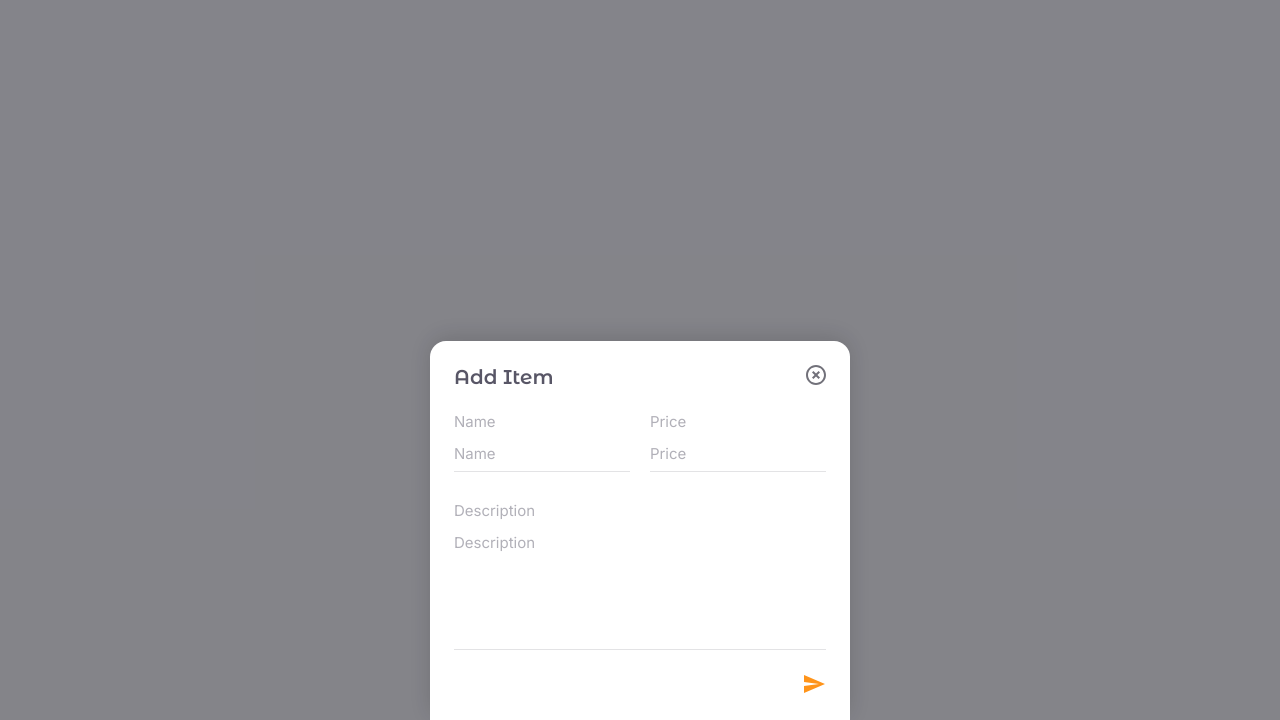
Scenario: AddItemModal › shows mutation error text
Type "Bread" into the field labelled "Name" at (542, 458), box [454,445,630,472]
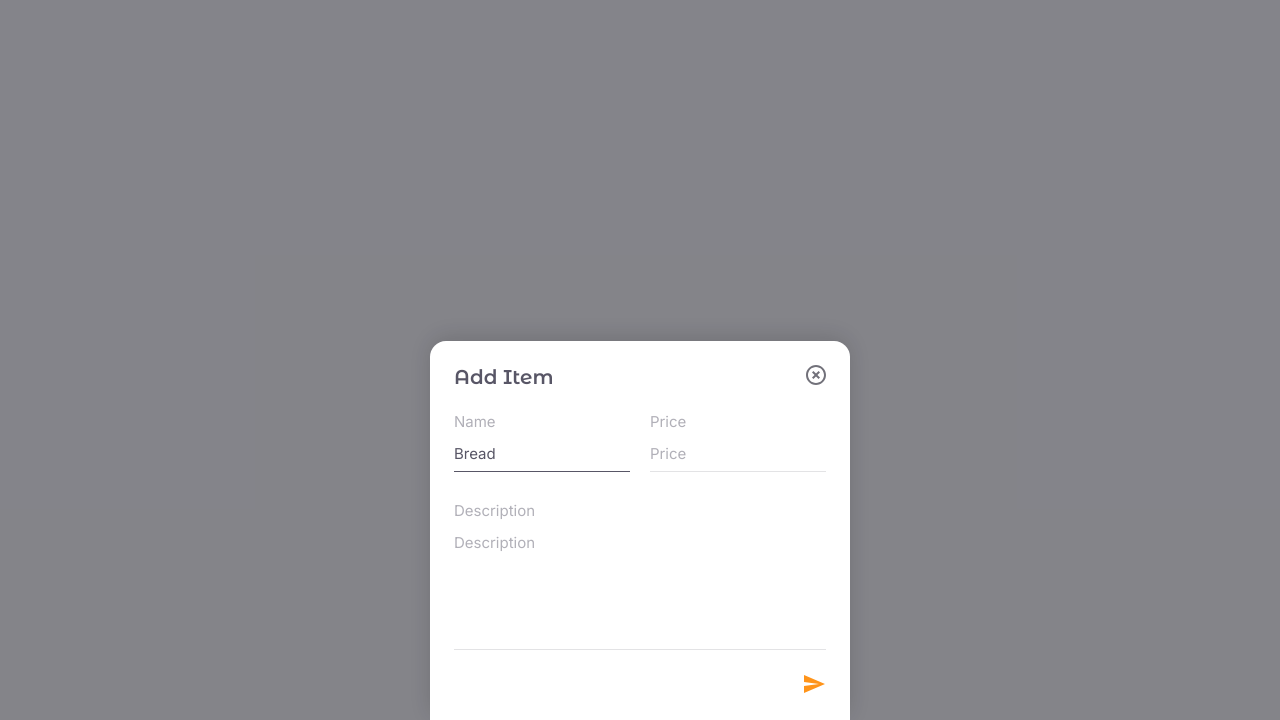
Type "10" into the number field labelled "Price" at (738, 458), box [650,445,826,472]
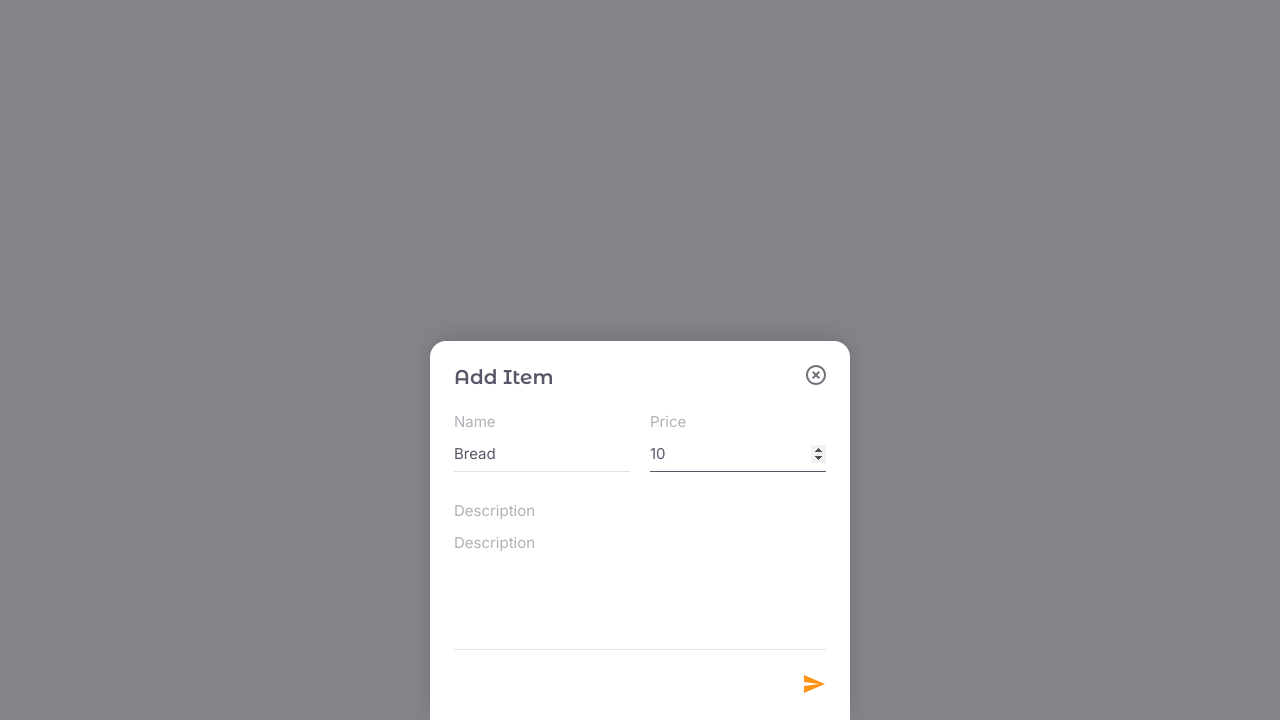
Click the button named "Save" at (814, 684), box [802,672,826,696]
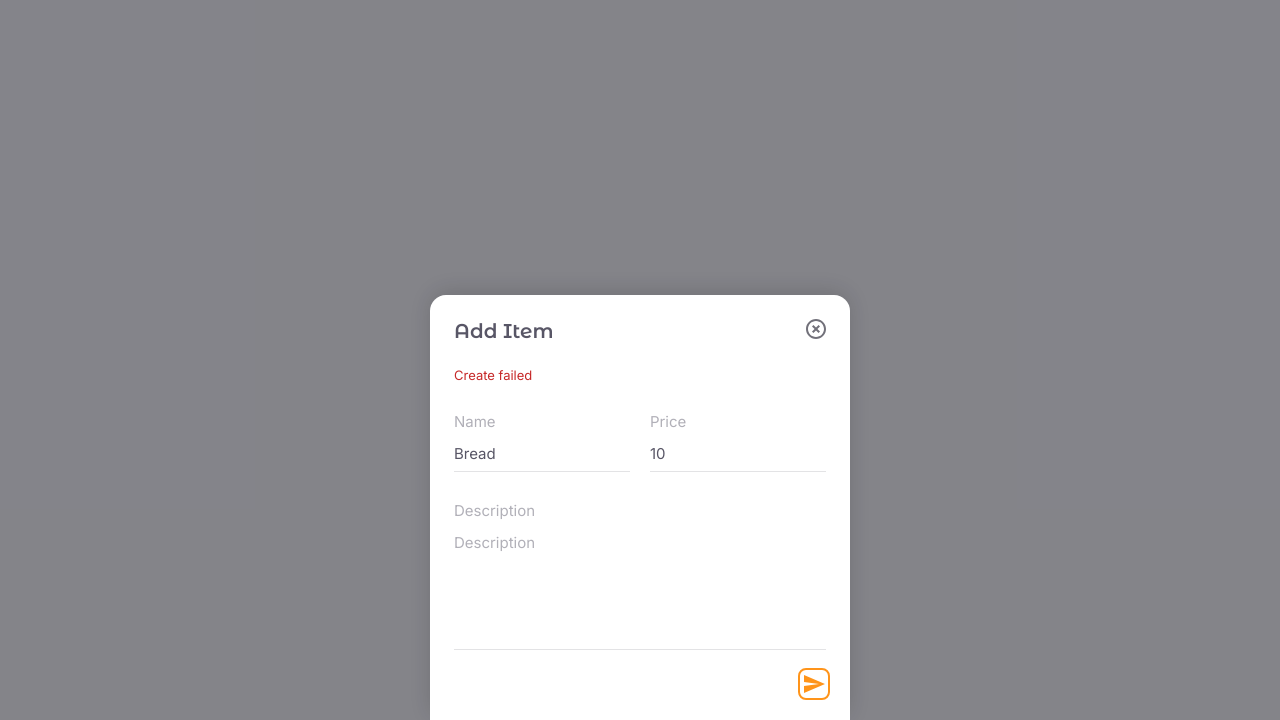
Expected: the text "Create failed" is shown, [454,367,532,383]
